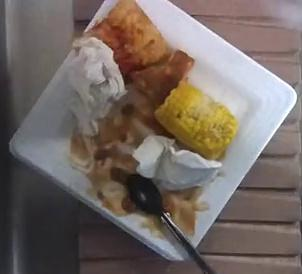corn: (154, 79, 236, 158)
pizza_crust: (86, 1, 194, 102)
